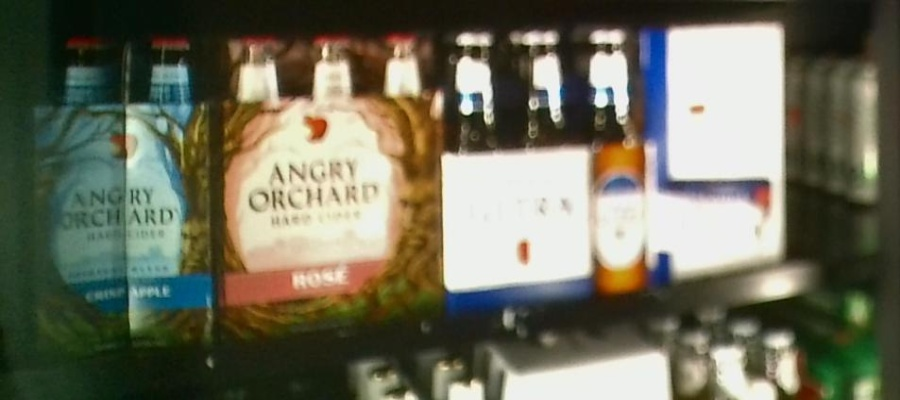bottle: (218, 28, 443, 339), (30, 31, 215, 346), (448, 27, 648, 305), (647, 24, 790, 277)
